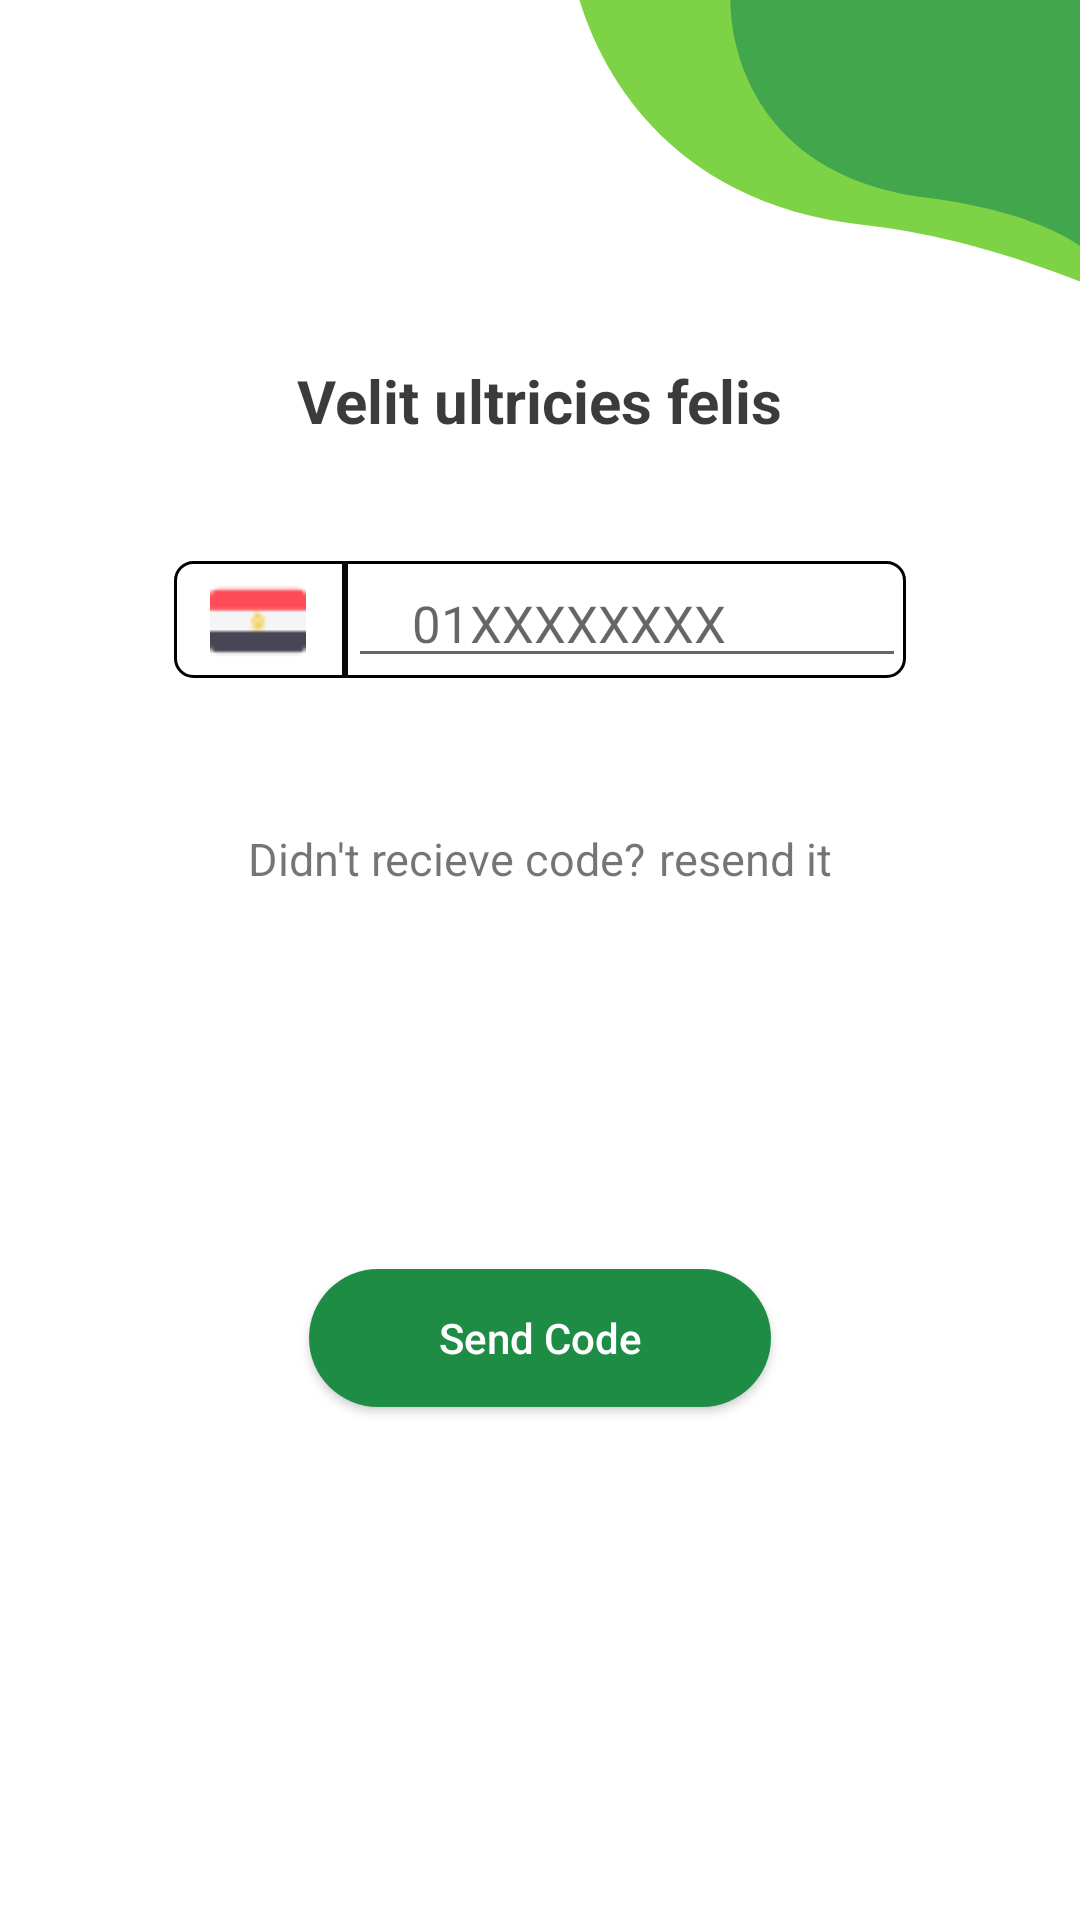

Icon bounding boxes for this 1080w x 1920h phone screenshot, format [x1, y1, x2, y2]:
egypt: [210, 587, 306, 654]
